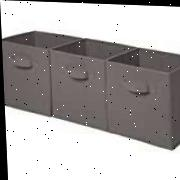cube: (43, 36, 135, 128), (103, 47, 180, 149)
